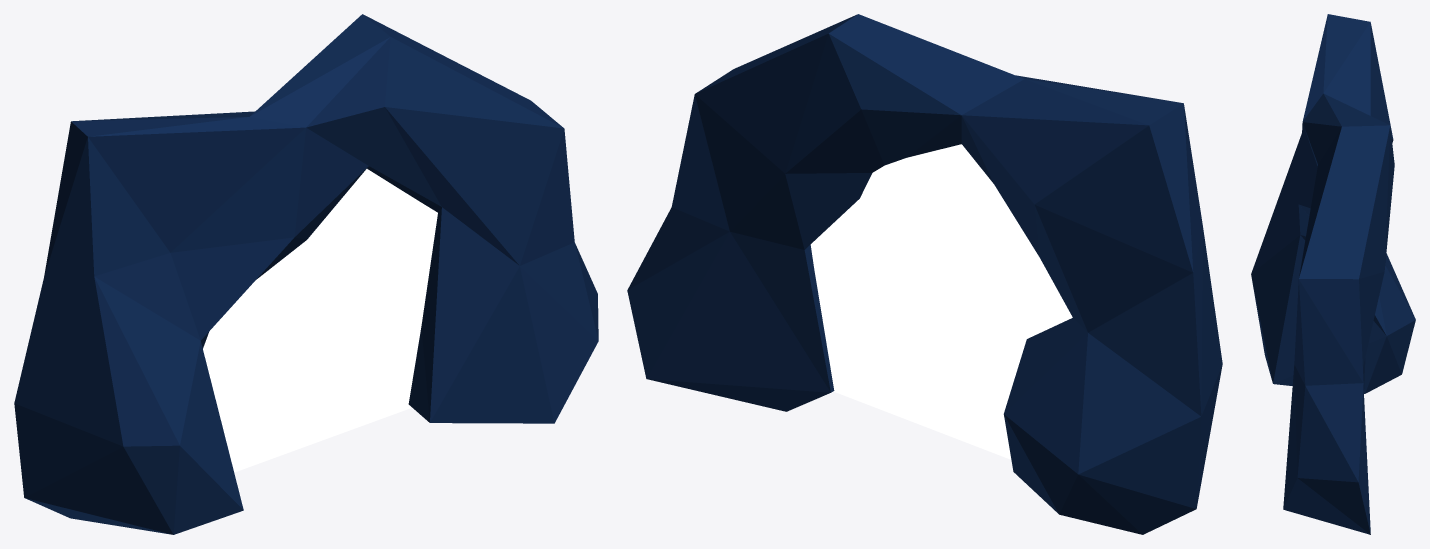
Rendered from Portal_Stone_Emission.glb.
3 views of the same model, side by side, from view 1: azimuth 30°, elevation 25°; view 2: azimuth 150°, elevation 25°; view 3: azimuth 270°, elevation 25° (orthographic). The views are drawn at different scales.
Parts seen in each view (by area): view 1: Stone_portal; view 2: Stone_portal; view 3: Stone_portal.
Boxes of the visible parts, box(x1,y1,x2,y2) form: Stone_portal: box(14, 14, 598, 534); Stone_portal: box(627, 14, 1222, 534); Stone_portal: box(1251, 14, 1415, 534).
Size of the model in its own units: 2.4 by 1.7 by 0.7102.
